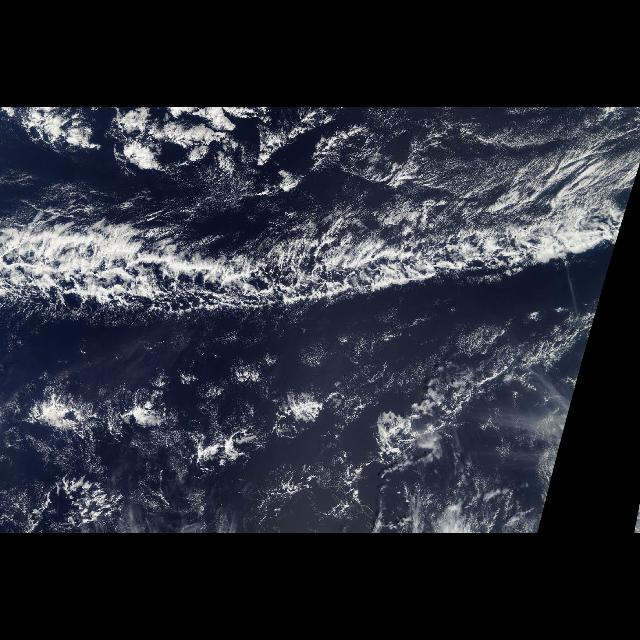Fish: (2, 204, 476, 316)
